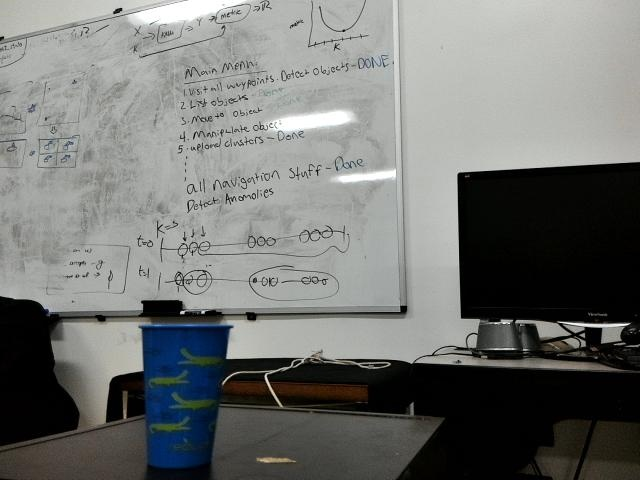water_cup: (133, 314, 238, 475)
